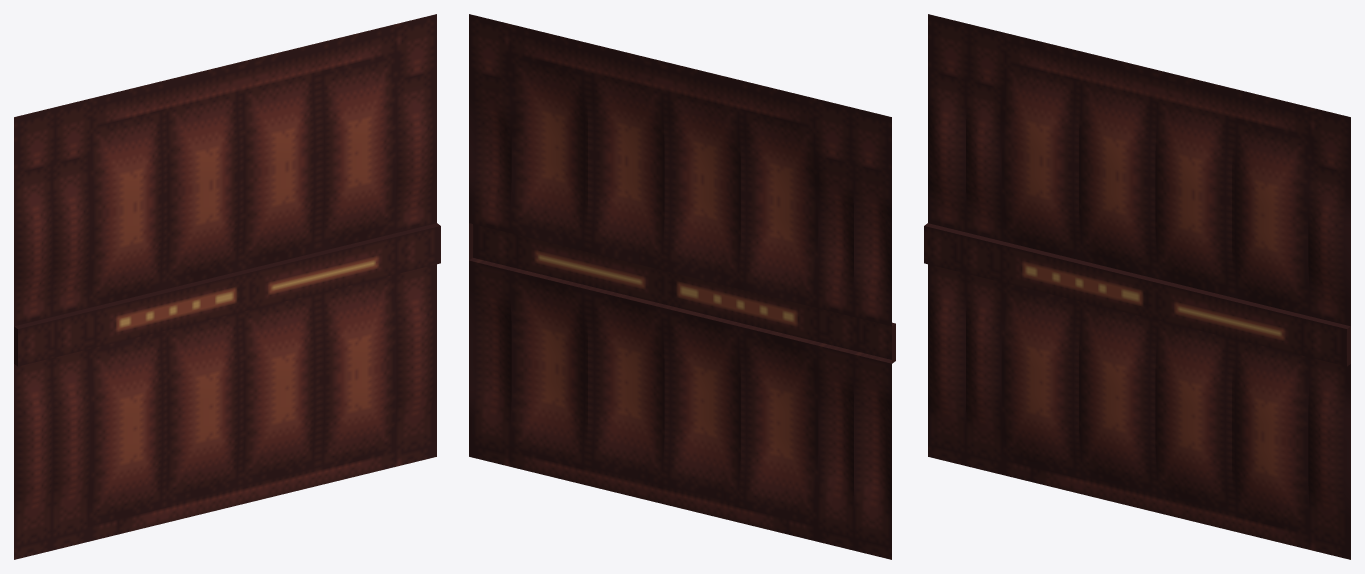
File: exec2_6.fbx
3 views of the same model, side by side, from view 1: azimuth 30°, elevation 25°; view 2: azimuth 150°, elevation 25°; view 3: azimuth 330°, elevation 25° (orthographic).
Parts seen in each view (by area): view 1: exec2_6_mesh; view 2: exec2_6_mesh; view 3: exec2_6_mesh.
Boxes of the visible parts, bbox=[...] form: exec2_6_mesh: bbox=[14, 14, 440, 559]; exec2_6_mesh: bbox=[469, 14, 895, 559]; exec2_6_mesh: bbox=[924, 14, 1350, 559].
Size of the model in its own units: 256 by 256 by 4.
